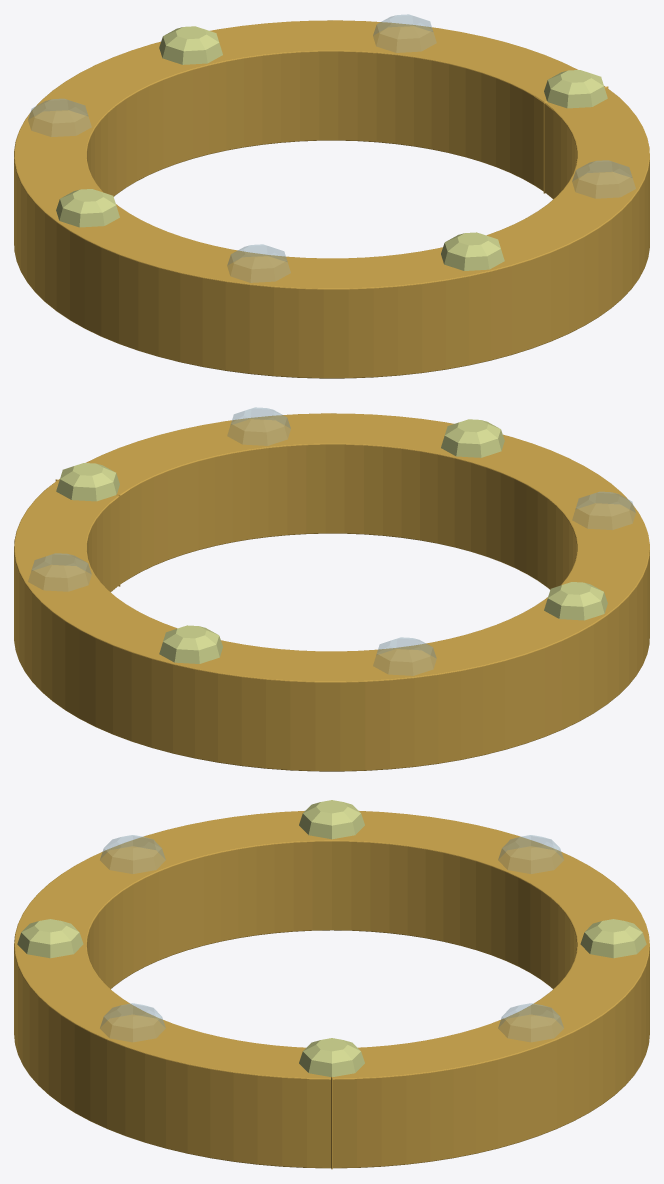
3 renders of one model, top to bottom at view 1: azimuth 30°, elevation 25°; view 2: azimuth 150°, elevation 25°; view 3: azimuth 270°, elevation 25°, orthographic.
Visible parts, largest first — view 1: TI021 / broad 24ct ring, TI021 / set ultropaz alexandrite.002, TI021 / set ultropaz alexandrite.004, TI021 / set ultropaz alexandrite, TI021 / set ultropaz alexandrite.006, TI021 / set ultropaz alexandrite.005, TI021 / set ultropaz alexandrite.003, TI021 / set ultropaz alexandrite.007, TI021 / set ultropaz alexandrite.001; view 2: TI021 / broad 24ct ring, TI021 / set ultropaz alexandrite.004, TI021 / set ultropaz alexandrite.006, TI021 / set ultropaz alexandrite, TI021 / set ultropaz alexandrite.002, TI021 / set ultropaz alexandrite.003, TI021 / set ultropaz alexandrite.005, TI021 / set ultropaz alexandrite.001, TI021 / set ultropaz alexandrite.007; view 3: TI021 / broad 24ct ring, TI021 / set ultropaz alexandrite.004, TI021 / set ultropaz alexandrite.002, TI021 / set ultropaz alexandrite.006, TI021 / set ultropaz alexandrite, TI021 / set ultropaz alexandrite.003, TI021 / set ultropaz alexandrite.005, TI021 / set ultropaz alexandrite.001, TI021 / set ultropaz alexandrite.007.
Part boxes in pixels (x1=…): TI021 / broad 24ct ring: x1=14, y1=20, x2=649, y2=378; TI021 / set ultropaz alexandrite.002: x1=159, y1=26, x2=222, y2=64; TI021 / set ultropaz alexandrite.004: x1=56, y1=189, x2=119, y2=227; TI021 / set ultropaz alexandrite: x1=544, y1=70, x2=607, y2=108; TI021 / set ultropaz alexandrite.006: x1=441, y1=232, x2=504, y2=270; TI021 / set ultropaz alexandrite.005: x1=227, y1=244, x2=290, y2=282; TI021 / set ultropaz alexandrite.003: x1=28, y1=98, x2=91, y2=136; TI021 / set ultropaz alexandrite.007: x1=572, y1=160, x2=635, y2=198; TI021 / set ultropaz alexandrite.001: x1=373, y1=14, x2=436, y2=52; TI021 / broad 24ct ring: x1=14, y1=413, x2=649, y2=771; TI021 / set ultropaz alexandrite.004: x1=544, y1=582, x2=607, y2=620; TI021 / set ultropaz alexandrite.006: x1=441, y1=419, x2=504, y2=457; TI021 / set ultropaz alexandrite: x1=56, y1=463, x2=119, y2=501; TI021 / set ultropaz alexandrite.002: x1=159, y1=625, x2=222, y2=663; TI021 / set ultropaz alexandrite.003: x1=373, y1=637, x2=436, y2=675; TI021 / set ultropaz alexandrite.005: x1=572, y1=491, x2=635, y2=529; TI021 / set ultropaz alexandrite.001: x1=28, y1=553, x2=91, y2=591; TI021 / set ultropaz alexandrite.007: x1=227, y1=407, x2=290, y2=445; TI021 / broad 24ct ring: x1=14, y1=811, x2=649, y2=1169; TI021 / set ultropaz alexandrite.004: x1=299, y1=800, x2=364, y2=839; TI021 / set ultropaz alexandrite.002: x1=580, y1=919, x2=646, y2=958; TI021 / set ultropaz alexandrite.006: x1=17, y1=919, x2=83, y2=958; TI021 / set ultropaz alexandrite: x1=299, y1=1038, x2=364, y2=1076; TI021 / set ultropaz alexandrite.003: x1=498, y1=835, x2=563, y2=873; TI021 / set ultropaz alexandrite.005: x1=100, y1=835, x2=165, y2=873; TI021 / set ultropaz alexandrite.001: x1=498, y1=1003, x2=563, y2=1041; TI021 / set ultropaz alexandrite.007: x1=100, y1=1003, x2=165, y2=1041.
Size of the model in its own units: 1.92 by 0.3647 by 1.92.
